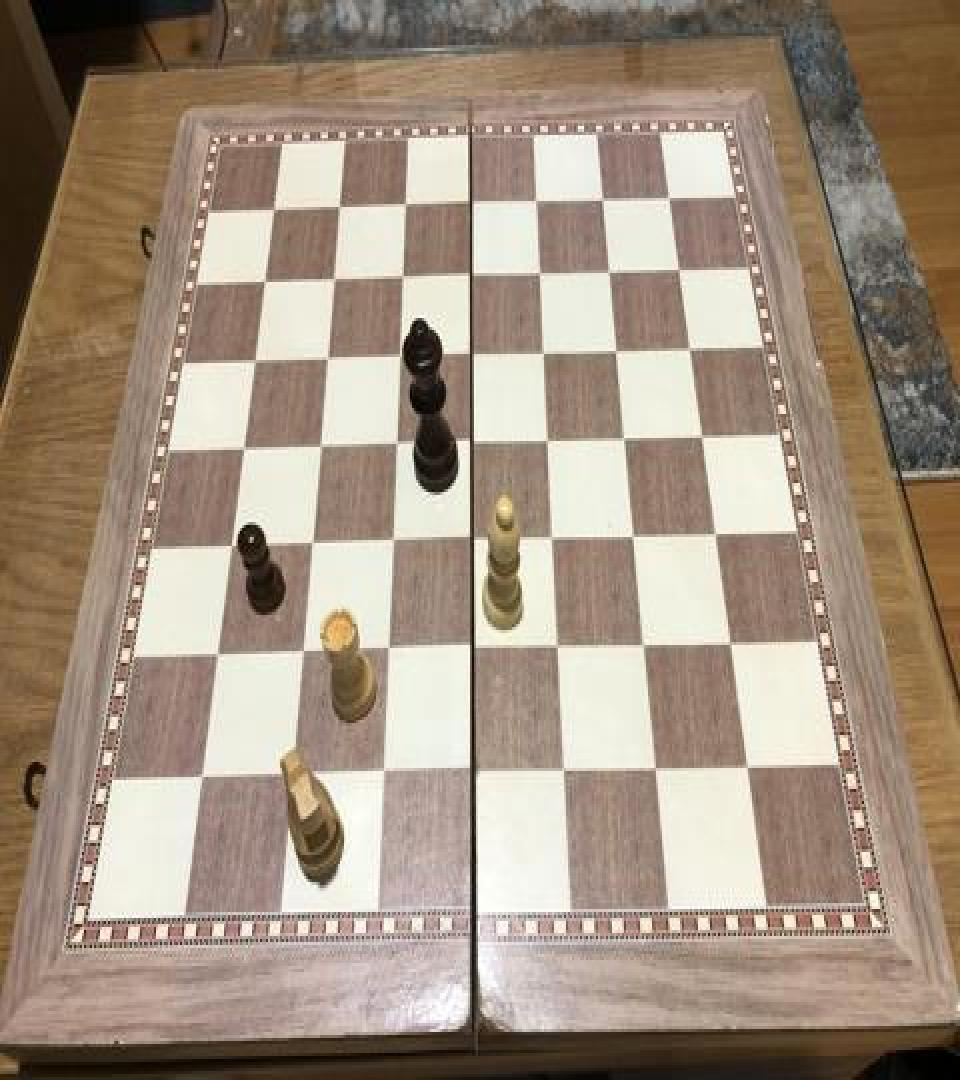xcorner: (459, 631, 483, 668), (206, 637, 230, 674), (459, 754, 483, 791), (656, 183, 680, 219), (590, 186, 614, 222), (459, 190, 483, 226), (393, 192, 417, 228), (328, 195, 352, 231), (264, 198, 288, 234), (666, 255, 690, 291), (597, 256, 621, 292), (459, 261, 483, 297), (390, 264, 414, 300), (322, 266, 346, 302), (254, 268, 278, 304), (677, 333, 701, 369), (604, 334, 628, 370), (531, 338, 555, 374), (459, 340, 483, 376), (387, 342, 411, 378), (244, 346, 268, 382), (689, 420, 713, 456), (612, 423, 636, 459), (535, 424, 559, 460), (459, 426, 483, 462), (383, 429, 407, 465), (233, 434, 257, 470), (702, 518, 726, 554), (621, 519, 645, 555), (540, 522, 564, 558), (459, 524, 483, 560), (379, 525, 403, 561), (299, 528, 323, 564), (220, 530, 244, 566), (717, 627, 741, 663), (631, 628, 655, 664), (545, 630, 569, 666), (374, 633, 398, 669), (290, 636, 314, 672), (734, 750, 758, 786), (642, 752, 666, 788), (551, 753, 575, 789), (369, 756, 393, 792), (279, 758, 303, 794), (190, 759, 214, 795), (524, 188, 548, 223), (528, 260, 552, 295), (315, 344, 339, 379), (308, 431, 332, 466)
